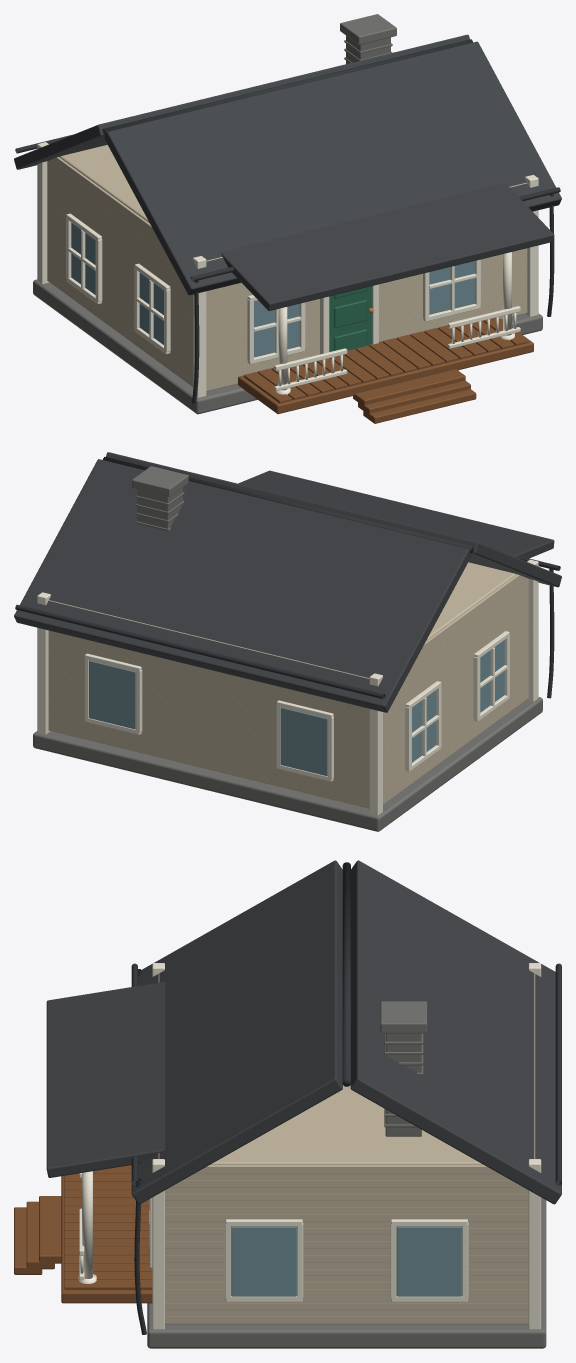
Rendered from farmhouse_highpoly_v2.glb.
3 views of the same model, one above another, from view 1: azimuth 30°, elevation 25°; view 2: azimuth 150°, elevation 25°; view 3: azimuth 270°, elevation 25° (orthographic). The views are drawn at different scales.
Parts seen in each view (by area): view 1: Roof_Front, PorchRoof, Foundation, Roof_Back, PorchDeck, MainWallBody, FrontWindow_R_Glass, Roof_Ridge, FrontStep_0, FrontWindow_L_Glass, Siding_Front_2, CornerTrim_-4.07_3.3 (+45 smaller); view 2: Roof_Back, Foundation, PorchRoof, Roof_Front, BackWindow_L_Glass, BackWindow_R_Glass, MainWallBody, Gutter_Back, Siding_Back_0, Siding_Back_1, Siding_Back_16, Siding_Back_2 (+44 smaller); view 3: Roof_Back, Roof_Front, PorchRoof, Foundation, MainWallBody, SideWindow_R2_Glass, SideWindow_R1_Glass, Siding_Right_0, Siding_Right_16, Siding_Right_20, Siding_Right_22, Siding_Right_15 (+41 smaller).
Boxes of the visible parts, x1,y1,x2,y2 form: Roof_Front: (104,41,561,295); PorchRoof: (221,183,554,310); Foundation: (33,279,542,414); Roof_Back: (14,34,469,169); PorchDeck: (238,318,533,414); MainWallBody: (59,145,523,391); FrontWindow_R_Glass: (429,261,474,314); Roof_Ridge: (102,39,472,135); FrontStep_0: (353,369,465,405); FrontWindow_L_Glass: (254,300,299,357); Siding_Front_2: (206,296,527,379); CornerTrim_-4.07_3.3: (37,142,49,283); Roof_Back: (14,459,471,712); Foundation: (33,697,542,831); PorchRoof: (238,470,554,558); Roof_Front: (106,452,561,587); BackWindow_L_Glass: (280,707,327,775); BackWindow_R_Glass: (89,660,135,729); MainWallBody: (50,562,516,808); Gutter_Back: (15,604,385,699); Siding_Back_0: (48,725,369,808); Siding_Back_1: (48,719,369,802); Siding_Back_16: (48,634,369,718); Siding_Back_2: (48,713,369,797); Roof_Back: (350,860,561,1204); Roof_Front: (131,860,342,1204); PorchRoof: (46,981,165,1177); Foundation: (147,1197,546,1348); MainWallBody: (165,1085,528,1324); SideWindow_R2_Glass: (396,1226,462,1296); SideWindow_R1_Glass: (231,1226,296,1296); Siding_Right_0: (165,1316,528,1323); Siding_Right_16: (165,1207,528,1214); Siding_Right_20: (170,1180,522,1187); Siding_Right_22: (195,1165,498,1173); Siding_Right_15: (165,1214,528,1221).
Bounding box in the file's own units: 9.1 × 5.77 × 9.62.
